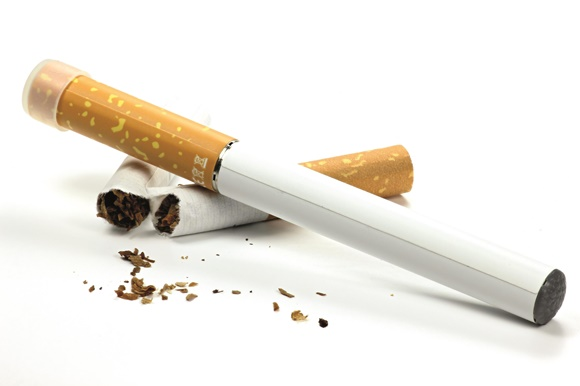cigarette: (19, 51, 576, 330)
